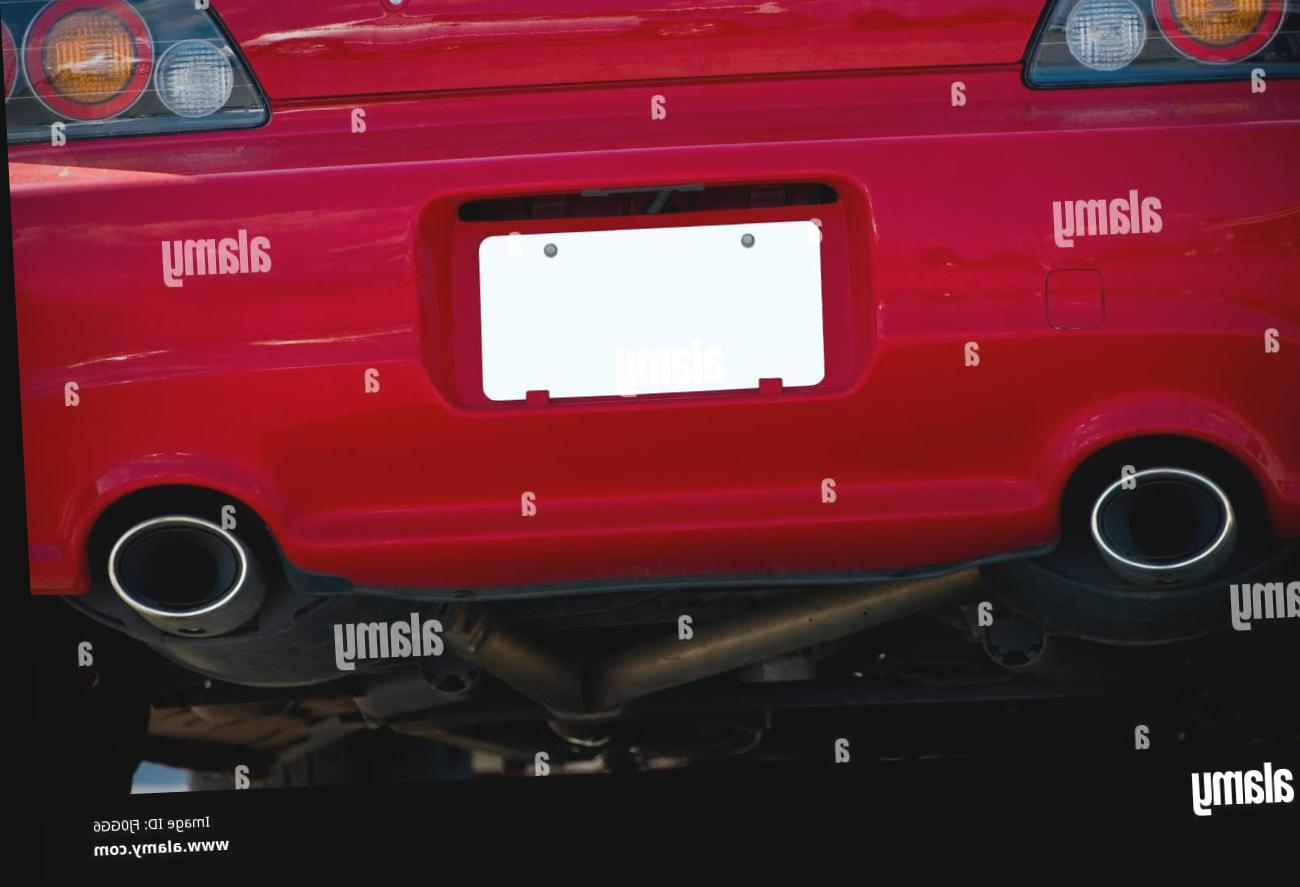License_Plate: (446, 199, 846, 423)
